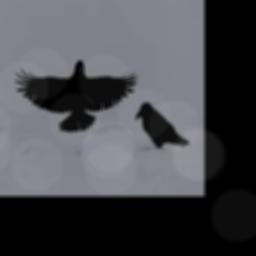Crow: (14, 59, 137, 132), (136, 102, 189, 148)
